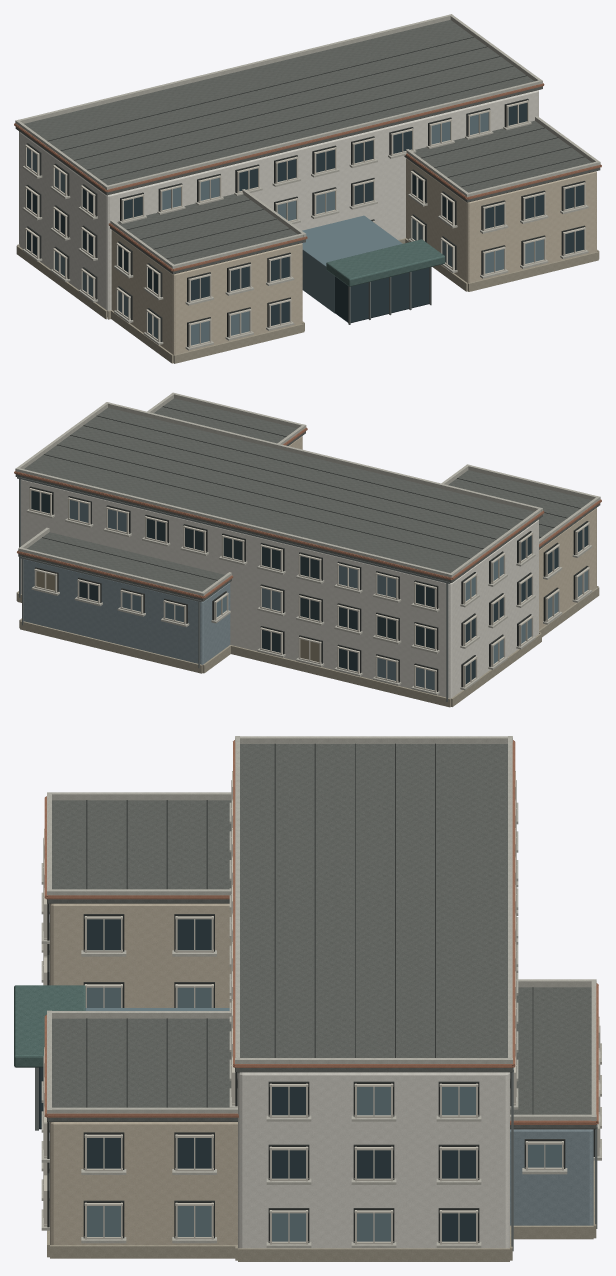
The model's file is EDU_SCHOOL_4x3_002.glb.
The picture shows the model from 3 angles, top to bottom: view 1: azimuth 30°, elevation 25°; view 2: azimuth 150°, elevation 25°; view 3: azimuth 270°, elevation 25°; orthographic projection. The views are drawn at different scales.
Visible parts, largest first — view 1: EDU_SCHOOL_4x3_002_Visual; view 2: EDU_SCHOOL_4x3_002_Visual; view 3: EDU_SCHOOL_4x3_002_Visual.
Boxes of the visible parts, x1,y1,x2,y2 form: EDU_SCHOOL_4x3_002_Visual: (14,14,601,363); EDU_SCHOOL_4x3_002_Visual: (14,392,601,707); EDU_SCHOOL_4x3_002_Visual: (14,736,601,1261).
Size of what is drawn, in the model's own units: 7.36 by 2.11 by 5.57.
Materials: 14 (8 with a texture image).
